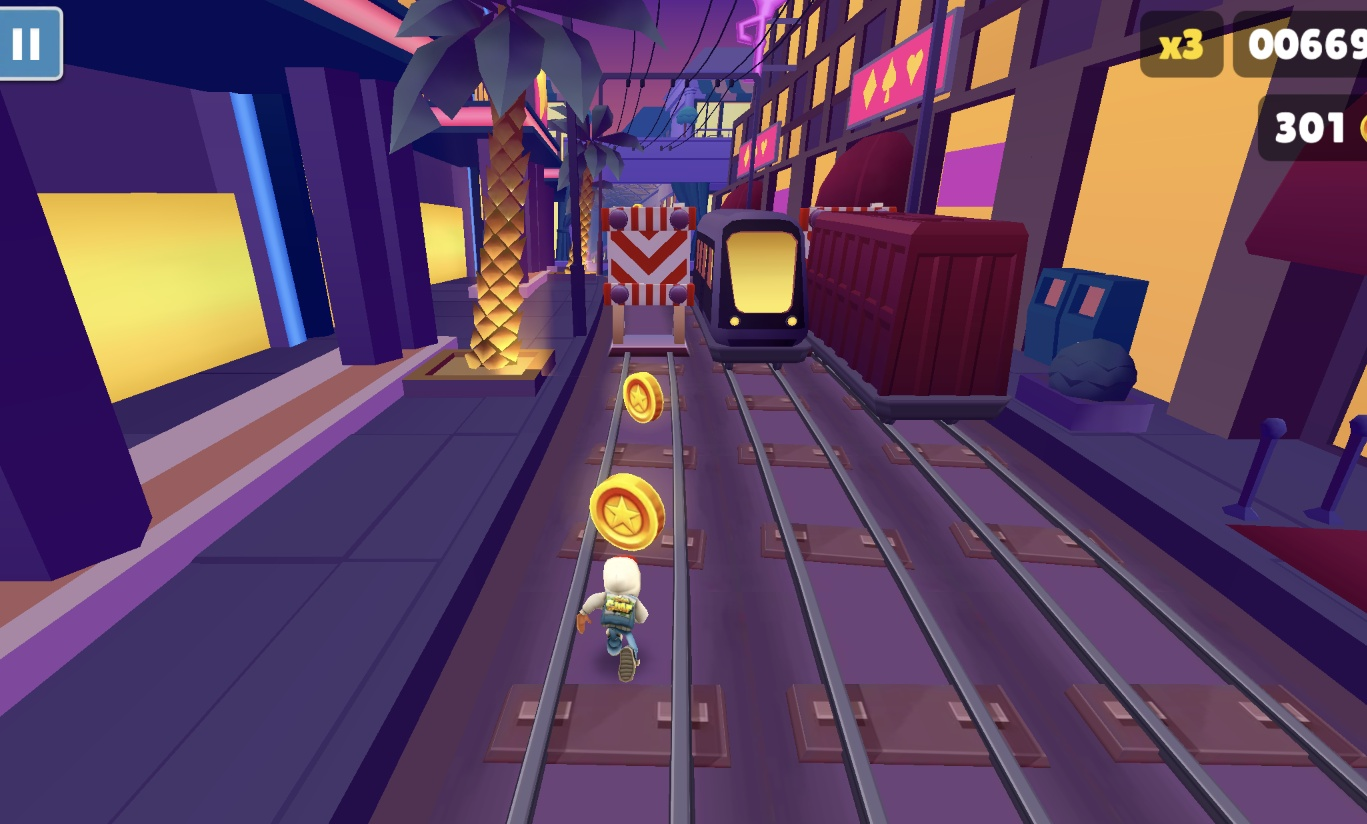overhead_barrier: (598, 203, 700, 360)
train: (803, 210, 1029, 423), (692, 209, 817, 369)
